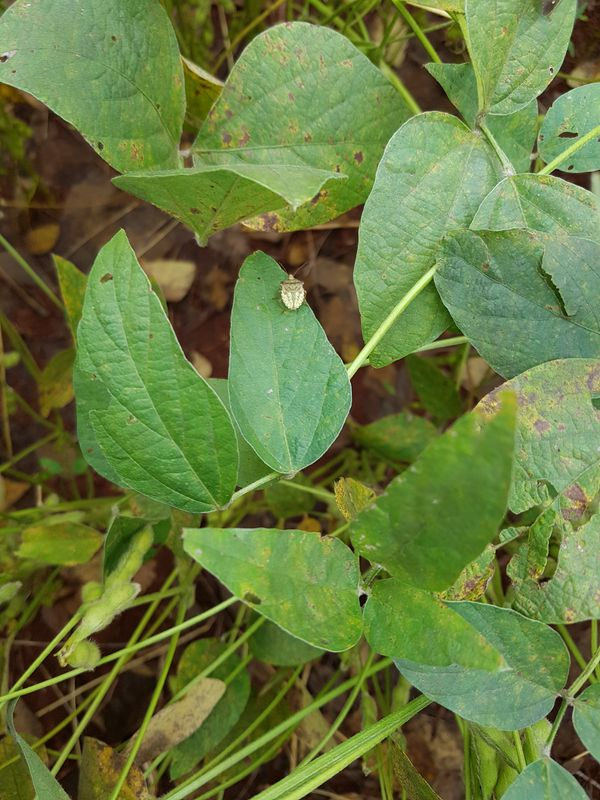Euschistus_heros_ninfa: (269, 260, 315, 321)
